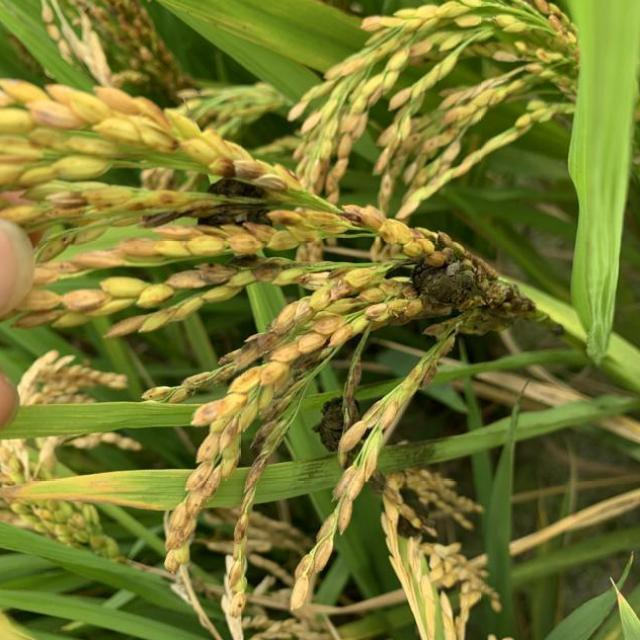Leaf_Scald: (408, 242, 504, 316), (197, 172, 279, 230), (315, 396, 366, 454)
